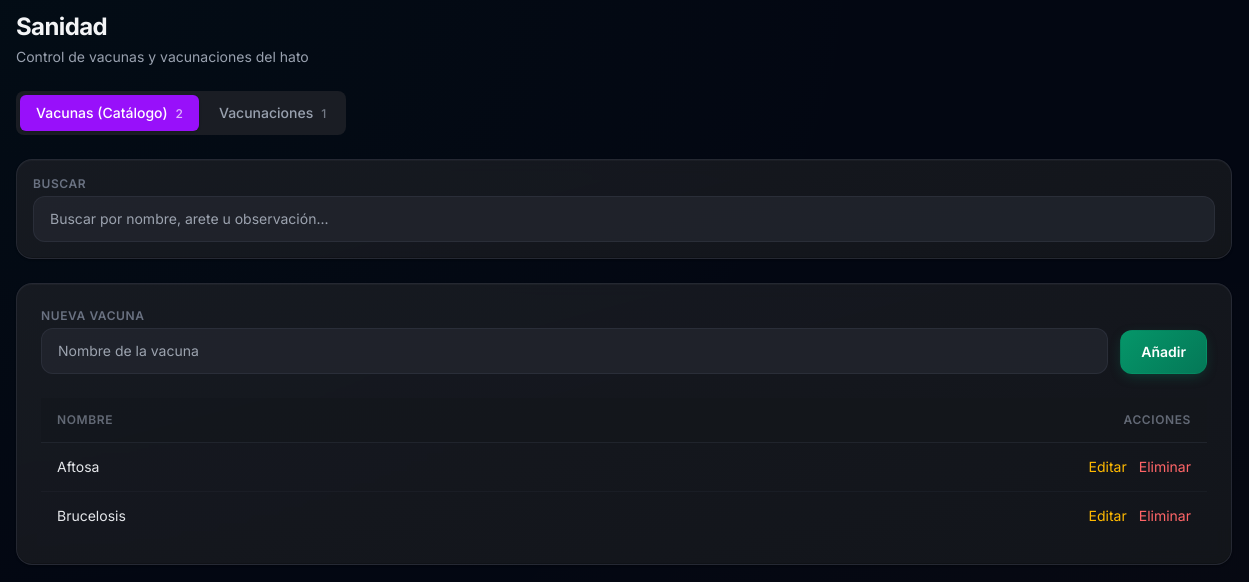
SanidadPage › cambia al tab de Vacunaciones
This screenshot has width=1249, height=582.
Expected: the text "Aftosa" is shown, [41,443,541,492]
Click the button "Vacunaciones1".
click(273, 113)  # box [203,95,342,131]
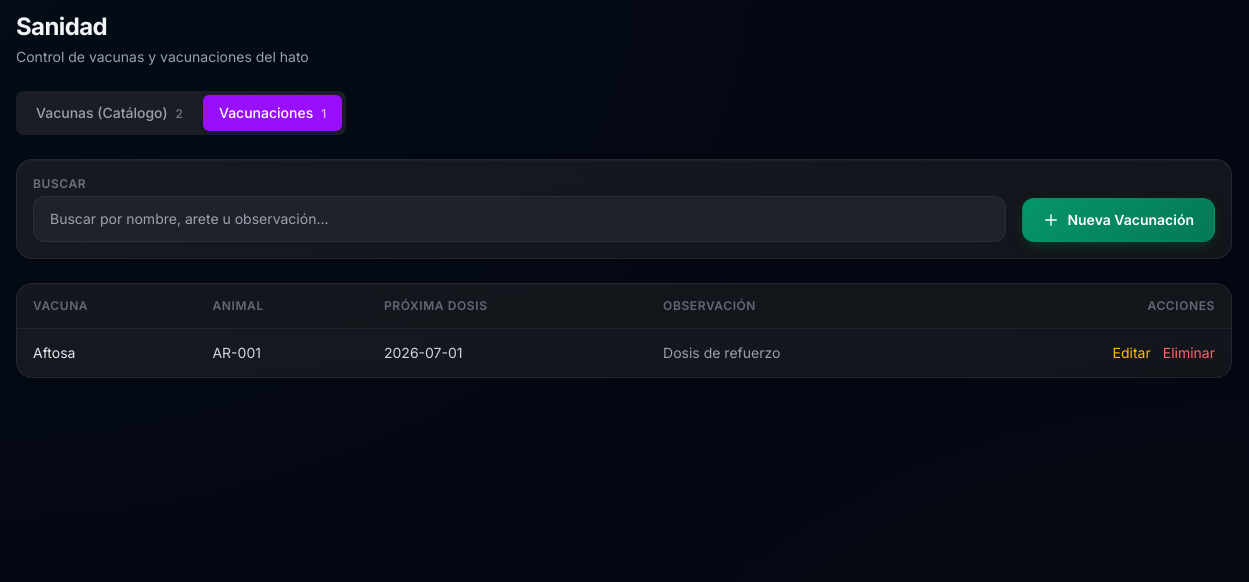
Expected: the text "AR-001" is shown, [196,329,368,377]
Expected: the text "Dosis de refuerzo" is shown, [647,329,954,377]
